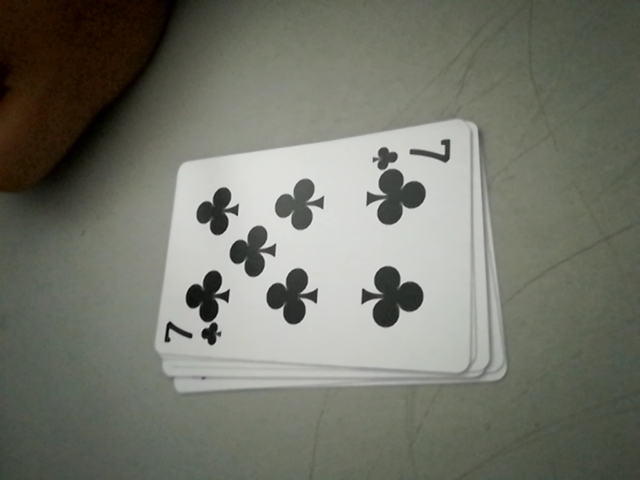mh 7: (370, 132, 459, 168), (159, 318, 225, 355)
